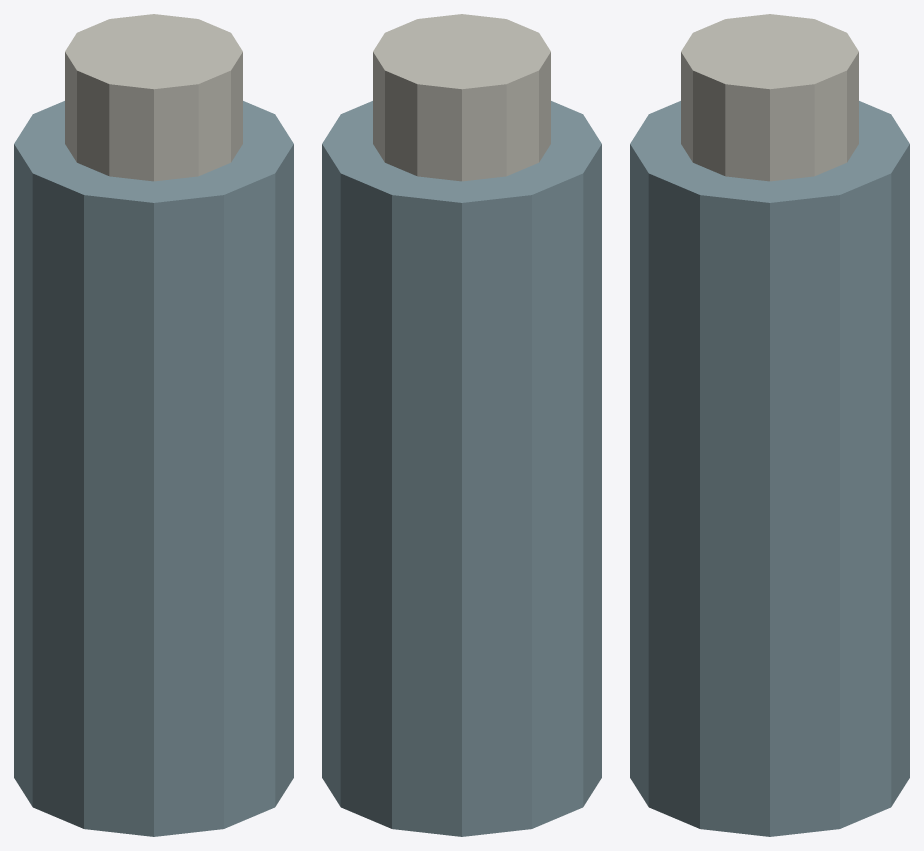
File: loot_water.glb
3 views of the same model, side by side, from view 1: azimuth 30°, elevation 25°; view 2: azimuth 150°, elevation 25°; view 3: azimuth 270°, elevation 25° (orthographic).
Visible parts, largest first — view 1: bottle_0, cap_1; view 2: bottle_0, cap_1; view 3: bottle_0, cap_1.
Boxes of the visible parts, left/top/right/bottom form: bottle_0: left=14, top=101, right=293, bottom=836; cap_1: left=65, top=14, right=242, bottom=181; bottle_0: left=322, top=101, right=601, bottom=836; cap_1: left=373, top=14, right=550, bottom=181; bottle_0: left=630, top=101, right=909, bottom=836; cap_1: left=681, top=14, right=858, bottom=181.
Size of the model in its own units: 0.22 by 0.63 by 0.22.
